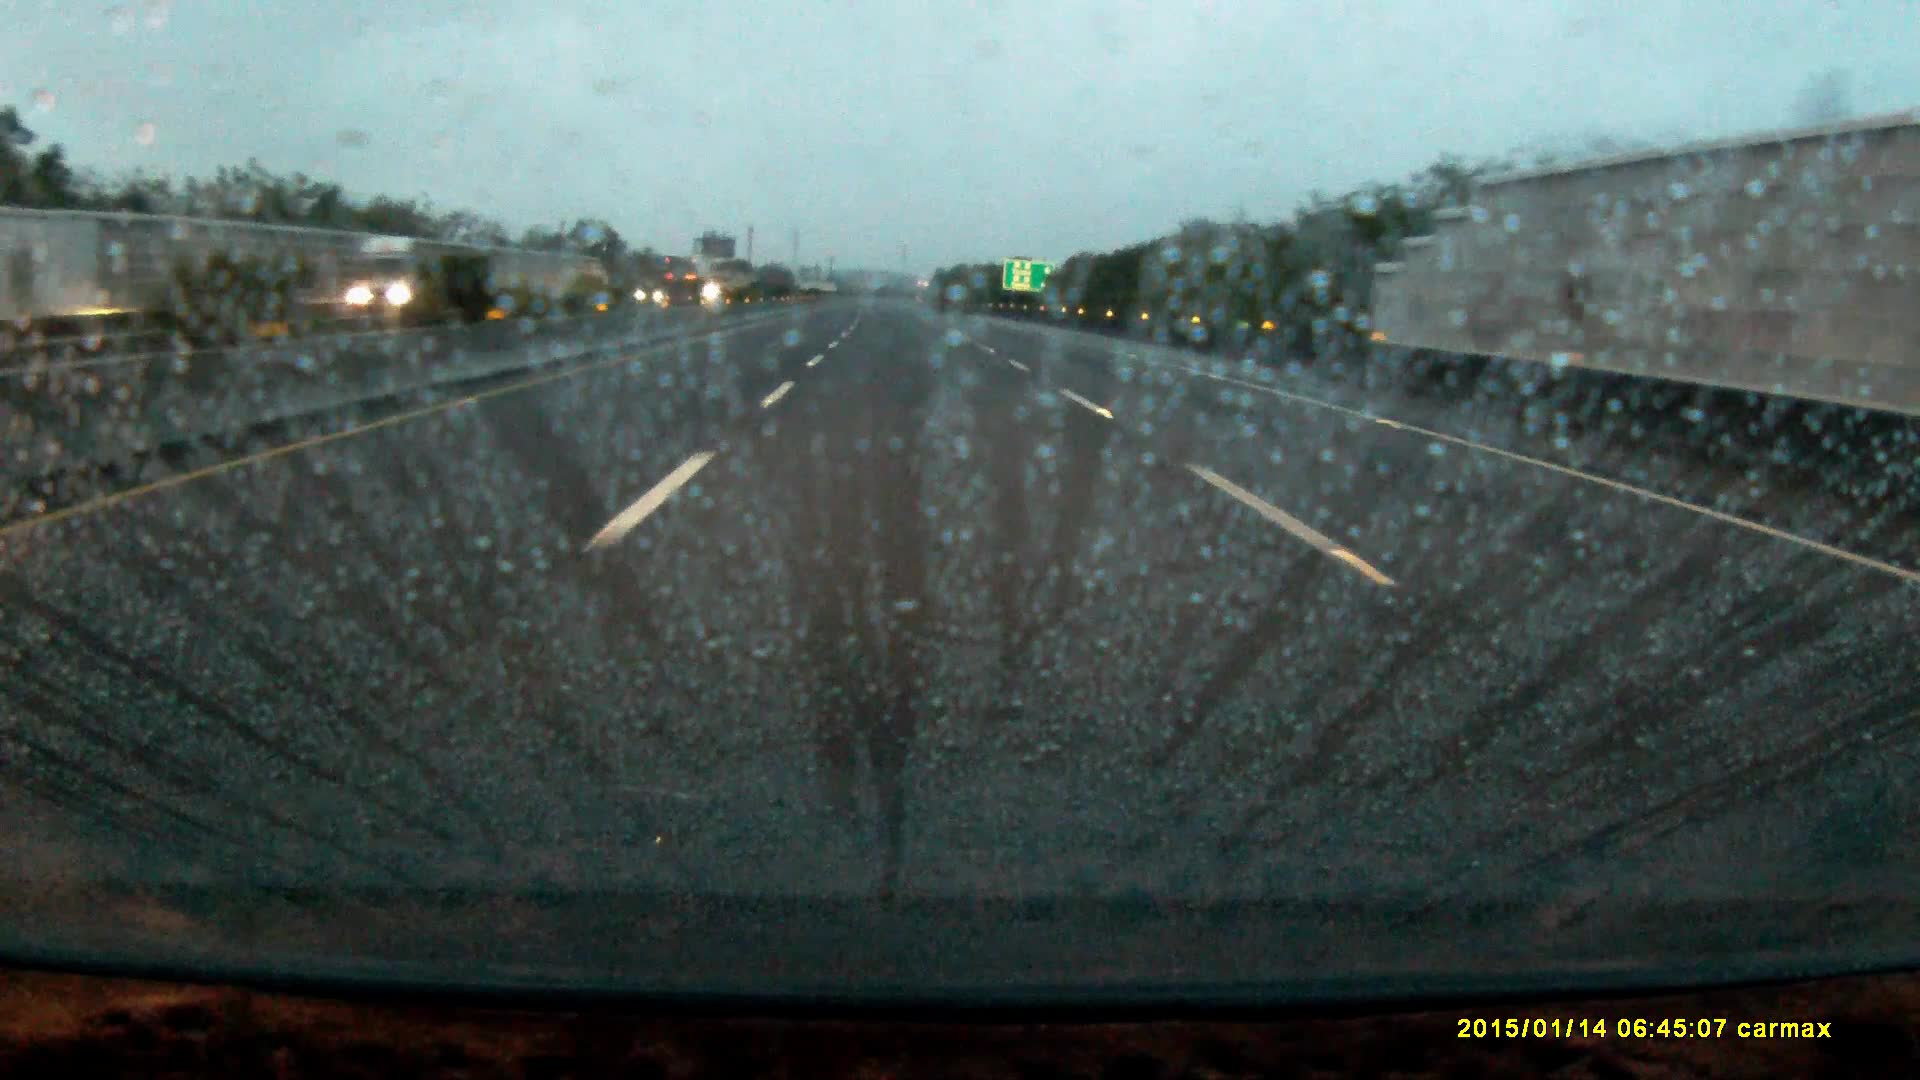vehicle: (345, 237, 464, 338), (661, 264, 713, 313)
